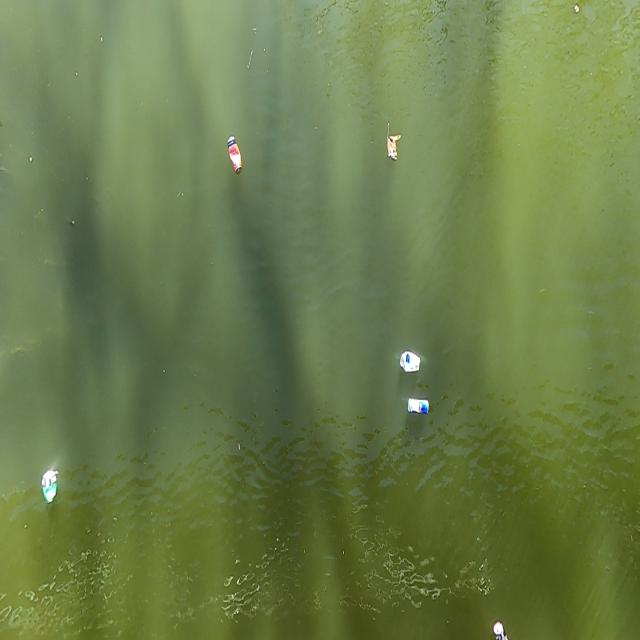Non plastique: (224, 127, 248, 186), (396, 348, 425, 383), (39, 466, 61, 511), (404, 393, 434, 422)
